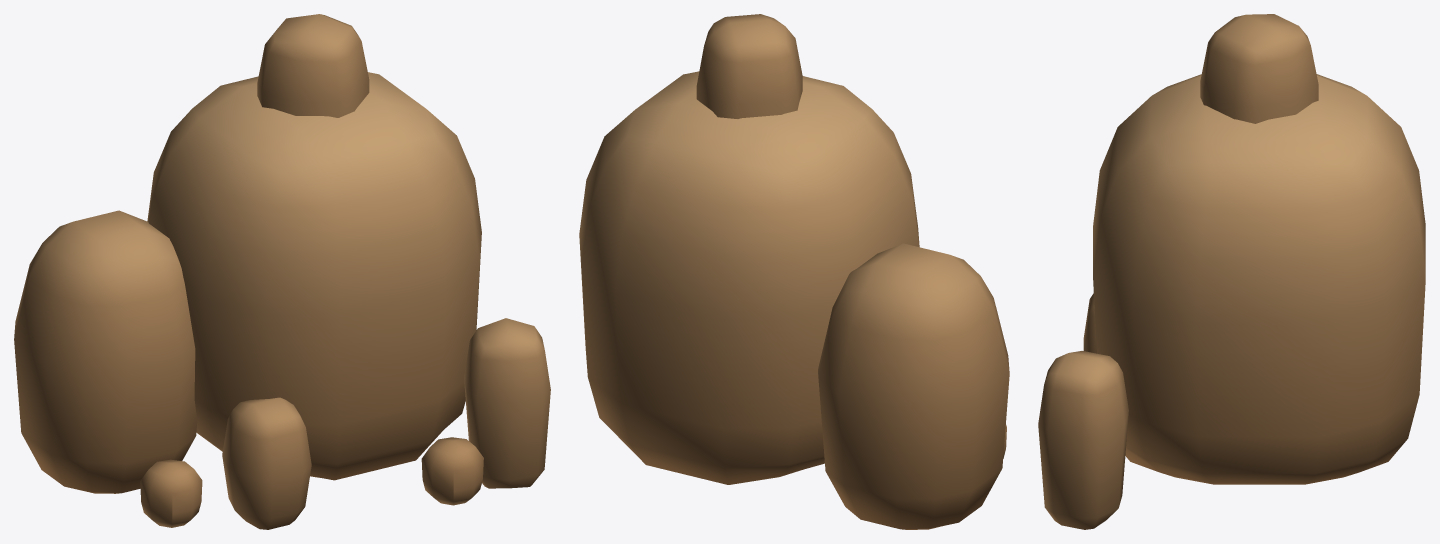
File: Rock_6_H_Color5.fbx
3 renders of one model, left to right at view 1: azimuth 30°, elevation 25°; view 2: azimuth 150°, elevation 25°; view 3: azimuth 270°, elevation 25°, orthographic. The views are drawn at different scales.
Visible parts, largest first — view 1: Rock_6_H_Color5; view 2: Rock_6_H_Color5; view 3: Rock_6_H_Color5.
Part boxes in pixels (x1,y1,x2,y2): Rock_6_H_Color5: (14,14,550,529); Rock_6_H_Color5: (579,14,1009,529); Rock_6_H_Color5: (1038,14,1425,529).
Bounding box in the file's own units: 2.25 × 2.22 × 1.76.
